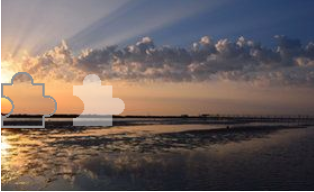target: (70, 73, 127, 128)
